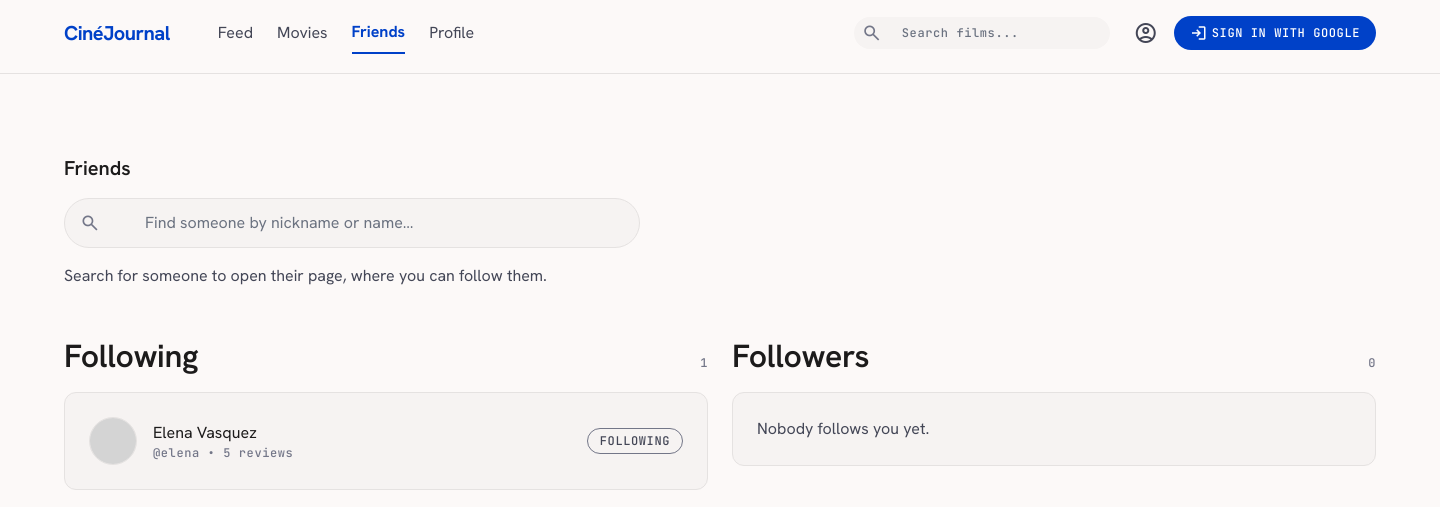
it: the friend directory › removes someone from the Following list when they are unfollowed
Click the button "Following" at {"x": 635, "y": 441}, box [587,428,683,454]
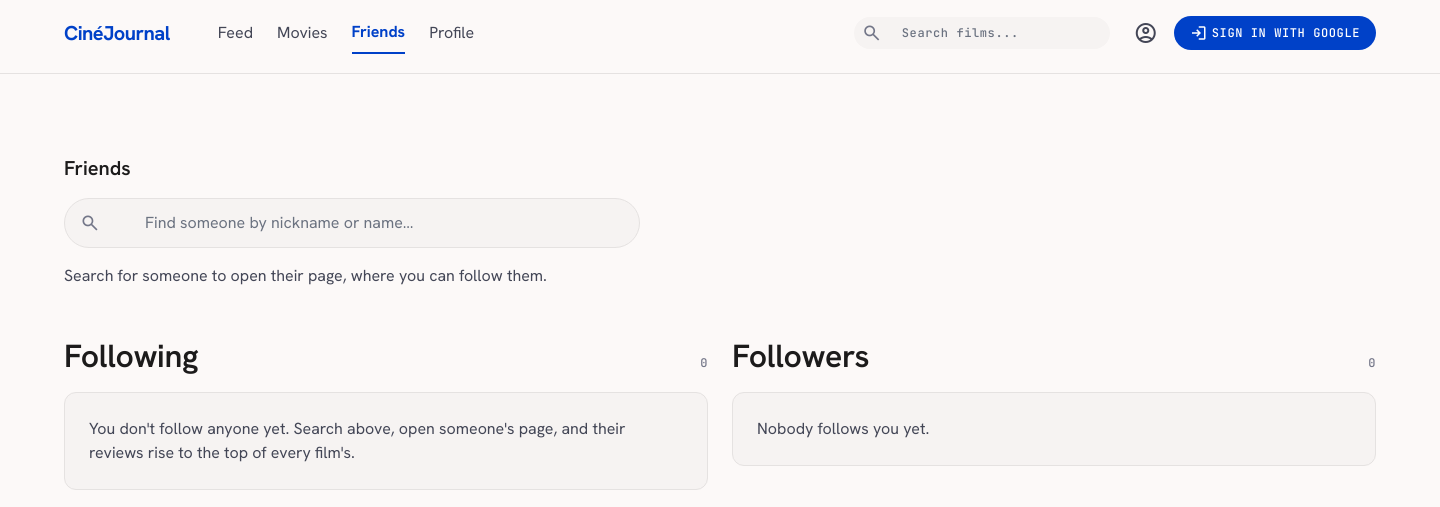
Expected: the link "Elena Vasquez" is gone
Expected: the text "You don't follow anyone yet" is shown, [89,418,626,463]
